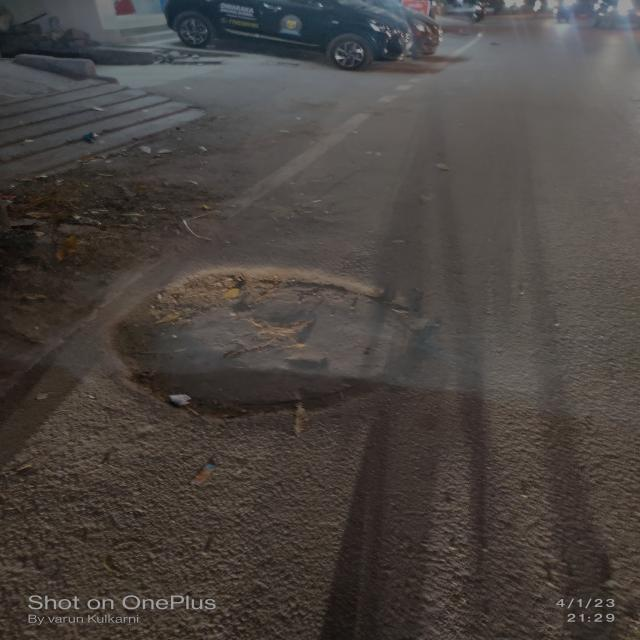potholes: (84, 266, 432, 422)
